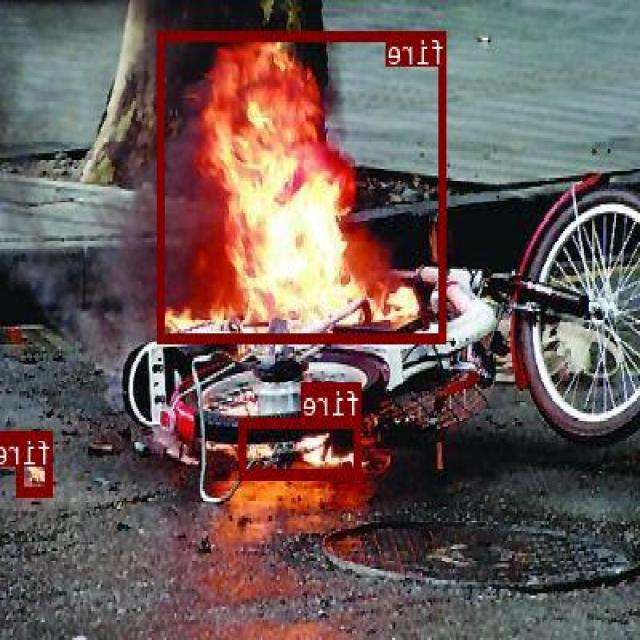fire: (160, 30, 446, 342), (240, 417, 362, 476), (18, 429, 54, 494)
